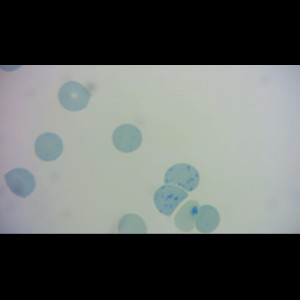aggregate reticulocyte: (153, 183, 191, 216), (163, 161, 201, 193)
erythrocyte: (56, 80, 92, 112), (173, 199, 199, 234), (193, 203, 222, 234)
punctate reticulocyte: (2, 166, 38, 200), (110, 123, 143, 153), (33, 131, 64, 162)
